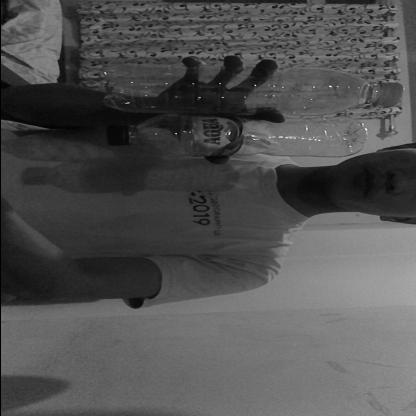plastic_bottles: (99, 60, 404, 115), (101, 116, 368, 158)
